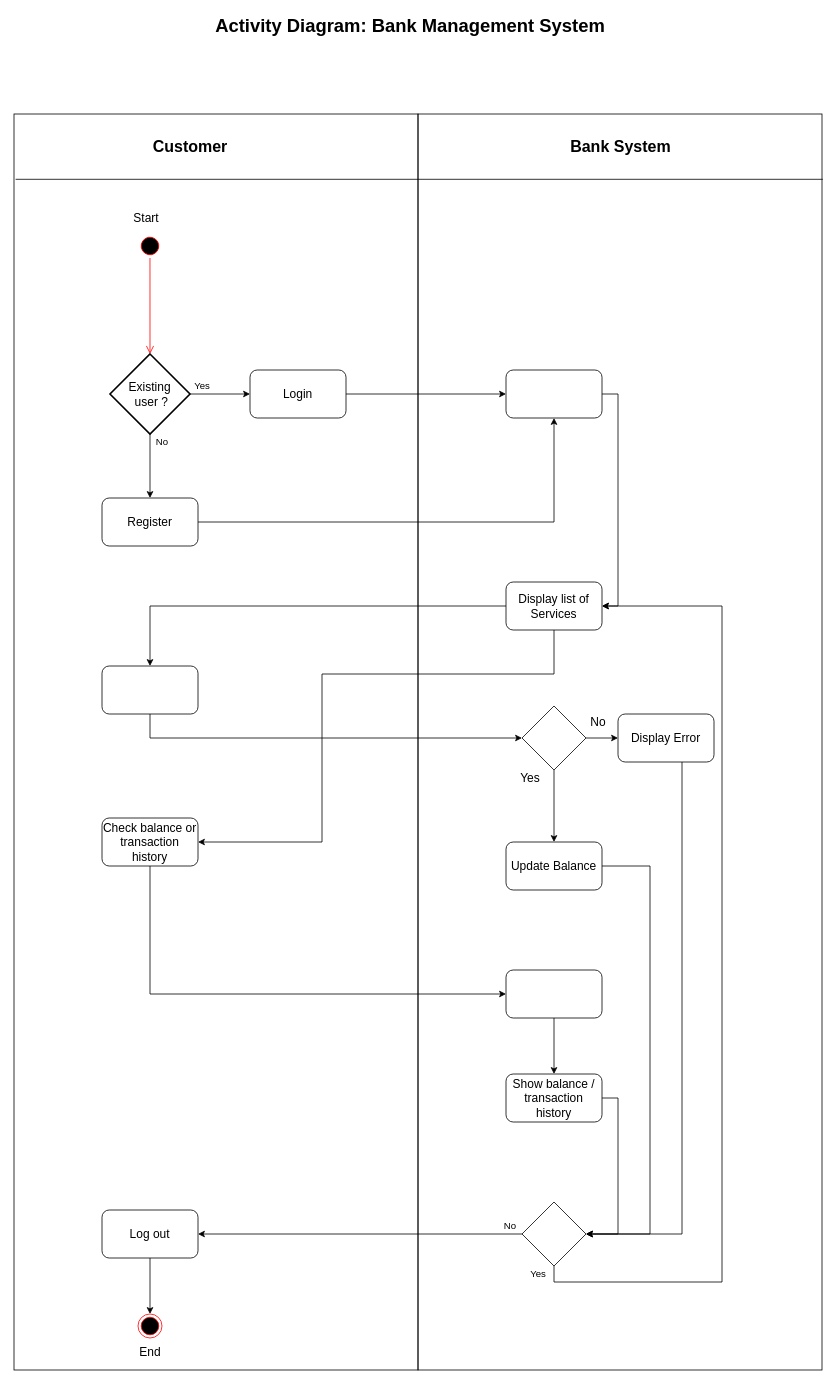
Image size: 838x1384. Some labels were removed from this diagram. Each missing label, with the box of its shape:
Continue ?: (521, 1201, 586, 1266)
Enough Balance: (521, 705, 586, 770)
Search in database: (505, 969, 602, 1018)
Transfer Fund: (101, 665, 198, 714)
Verify Details: (505, 369, 602, 418)
